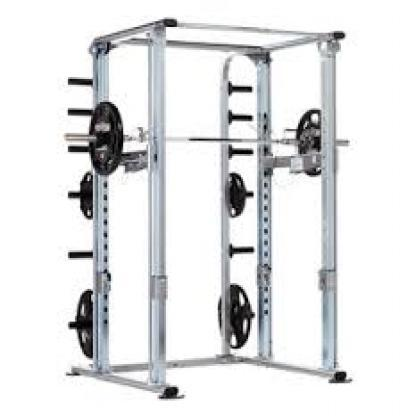smith machine: (61, 17, 353, 399)
